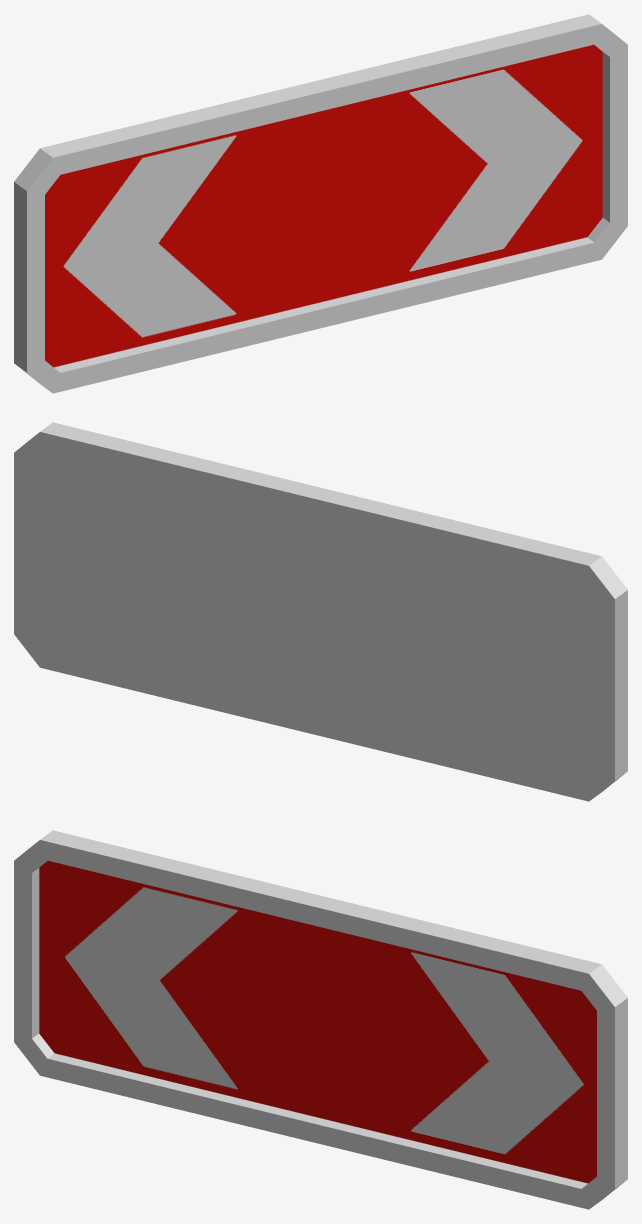
The model's file is DNap.fbx.
3 renders of one model, top to bottom at view 1: azimuth 30°, elevation 25°; view 2: azimuth 150°, elevation 25°; view 3: azimuth 330°, elevation 25°, orthographic.
Parts seen in each view (by area): view 1: DNap; view 2: DNap; view 3: DNap.
Part boxes in pixels (bbox=[...]): DNap: bbox=[14, 14, 627, 393]; DNap: bbox=[14, 422, 627, 801]; DNap: bbox=[14, 830, 627, 1209].
Size of the model in its own units: 0.96 by 0.36 by 0.036.
